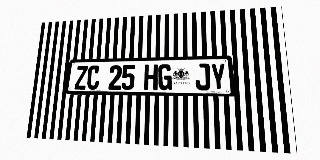2: (108, 65, 122, 90)
5: (121, 65, 135, 90)
C: (86, 65, 100, 90)
G: (158, 64, 172, 90)
H: (144, 64, 158, 90)
J: (195, 63, 210, 90)
Y: (210, 63, 226, 90)
Z: (74, 66, 88, 90)
